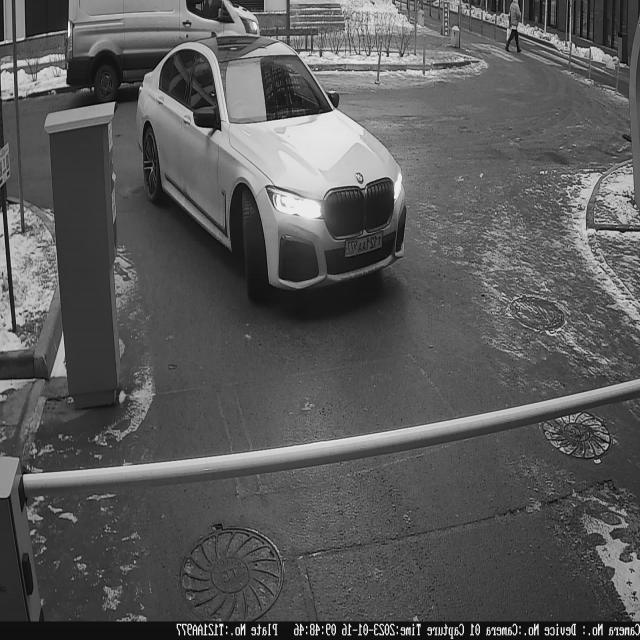car-plate-numbers: (343, 226, 386, 261)
